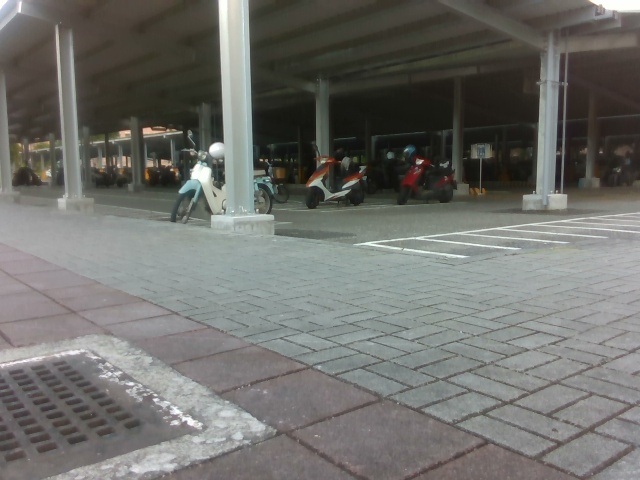road: (272, 194, 639, 246), (98, 189, 175, 214)
sidewalk: (0, 201, 639, 479)
